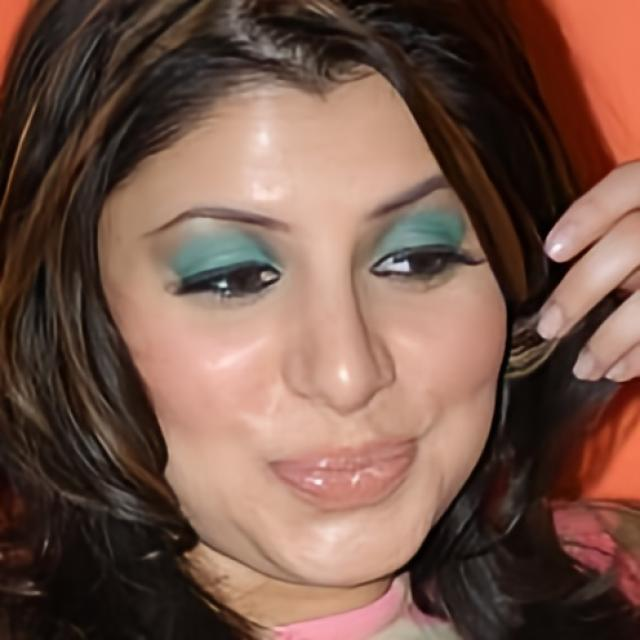happy: (115, 74, 510, 588)
